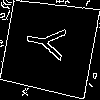Y: (24, 22, 76, 63)
